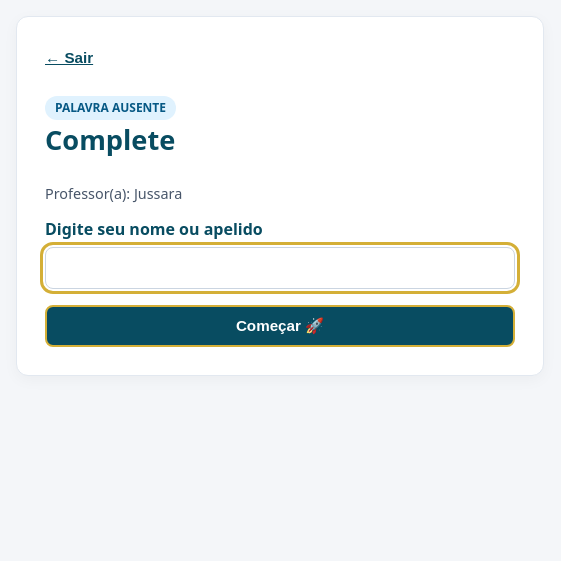
Scenario: palavra ausente continua com resposta escrita
Type "Bia" into the field labelled "Digite seu nome ou apelido". click: coordinates (280, 268)
box: [45,247,515,289]
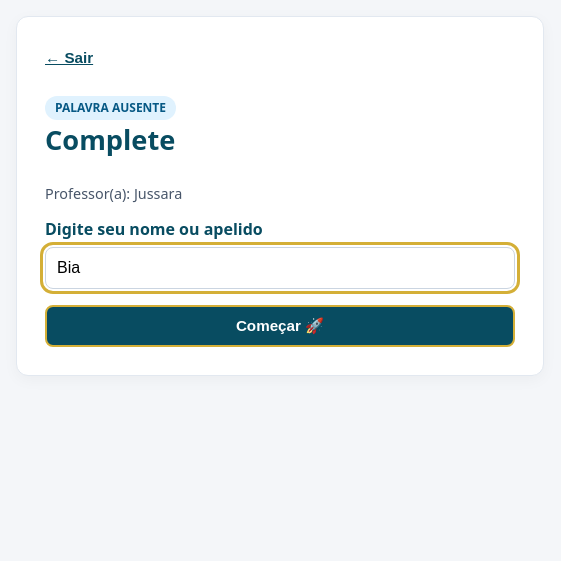
Click the button "Começar 🚀". click: coordinates (280, 326)
box: [45,305,515,347]
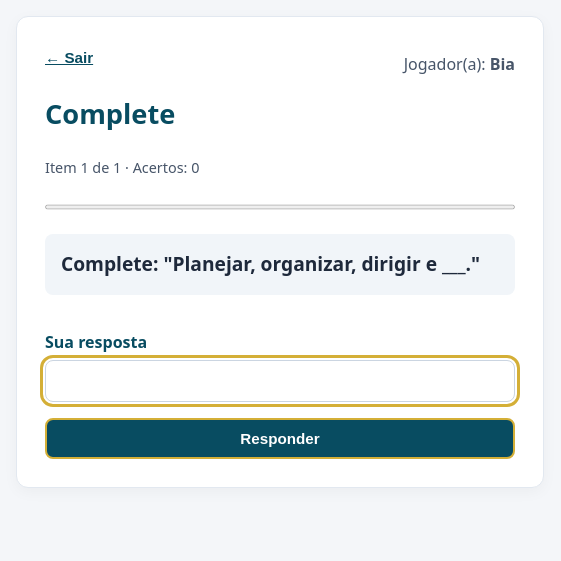
Type "Controlar" into the field labelled "Sua resposta". click: coordinates (280, 381)
box: [45,360,515,402]
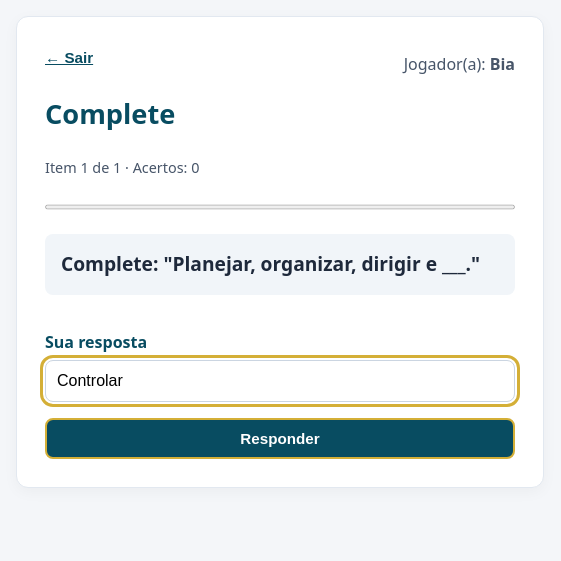
Click the button "Responder". click: coordinates (280, 439)
box: [45,418,515,459]
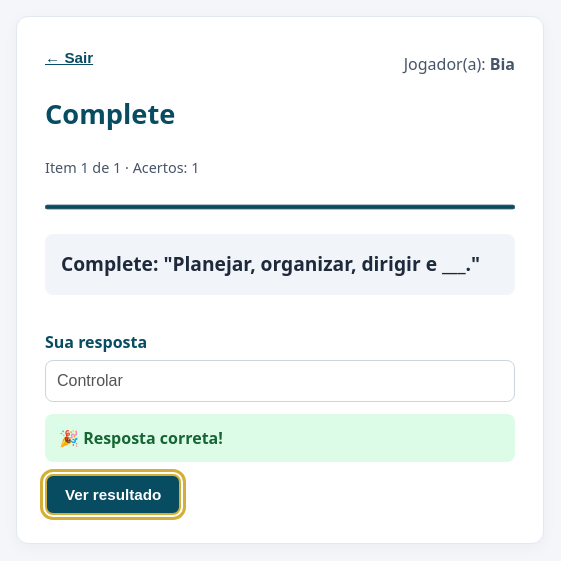
Check: the message shows "correta", box [59,427,223,449]
